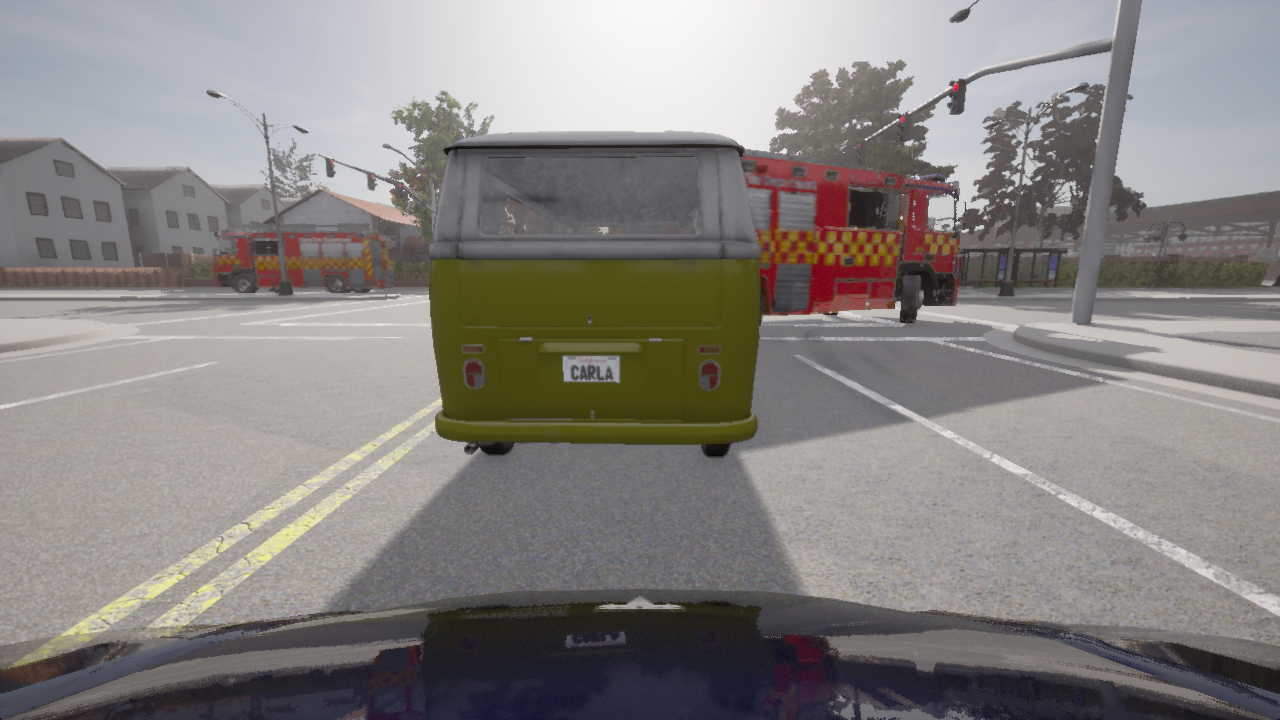cyclist: (0, 588, 1279, 719), (428, 131, 761, 456), (740, 150, 966, 324), (212, 224, 392, 293)
